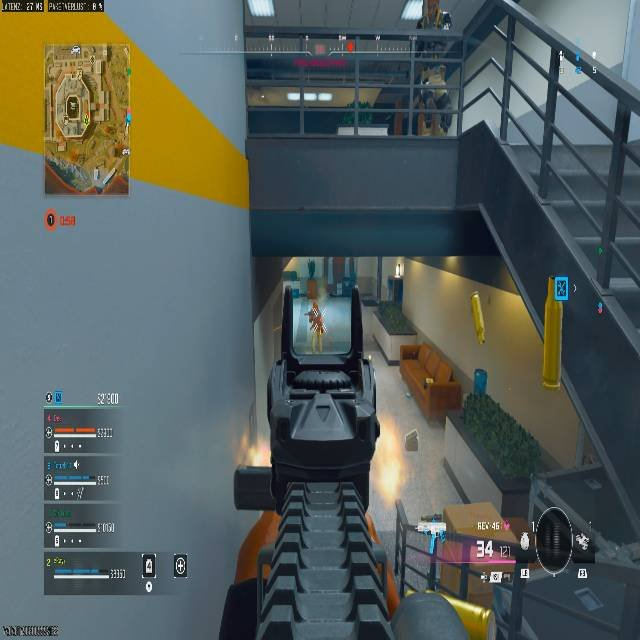head: (311, 303, 317, 312)
player: (305, 303, 324, 334)
